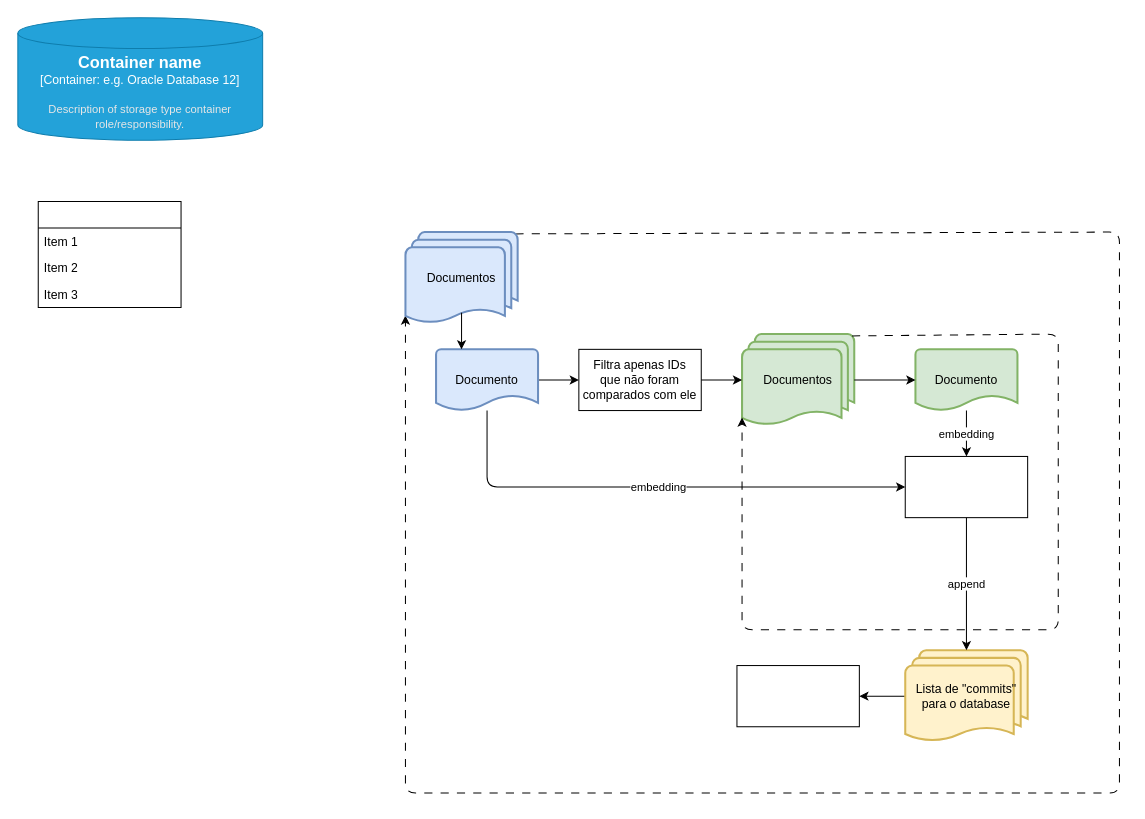
Image size: 1145x819. Some labels were removed from this diagram. The box of each missing label's shape, as (x1, y1, x2, y2) in pixels:
Escreve no banco de dados: (736, 665, 859, 727)
List: (37, 200, 181, 308)
Similaridade por Cosseno: (904, 455, 1028, 518)
